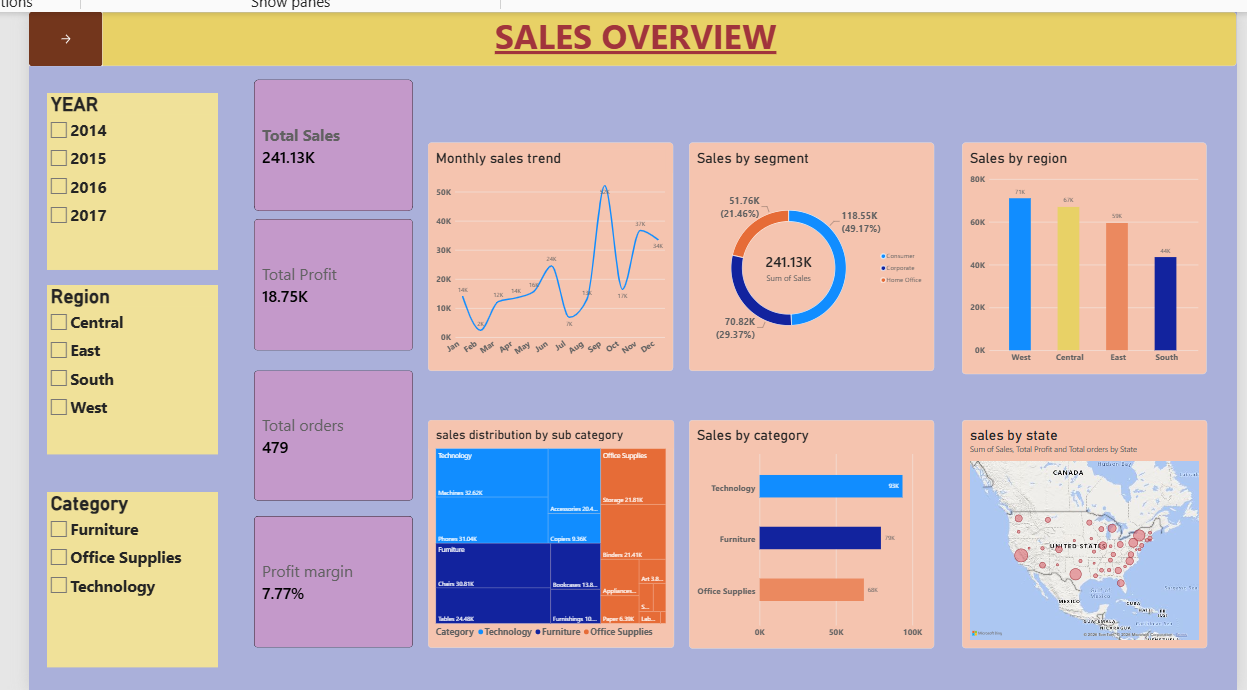

This screenshot's page, from the dashboard's own definition file:
{"tool":"powerbi","page":{"name":"Dashboard","canvas":[2560,1440],"ordinal":1},"visuals":[{"type":"textbox","box":[12.7,0,2548.2,114.5],"z":0},{"type":"cardVisual","fields":{"Data":["Superstore.Total Sales"]},"box":[477.2,143.2,337.2,279.9],"z":1},{"type":"cardVisual","fields":{"Data":["Superstore.Total Profit"]},"box":[477.2,439,337.2,279.9],"z":2},{"type":"cardVisual","fields":{"Data":["Superstore.Total orders"]},"box":[477.2,760.3,337.2,276.8],"z":3},{"type":"cardVisual","fields":{"Data":["Superstore.Profit margin"]},"box":[477.2,1068.9,337.2,279.9],"z":4},{"type":"lineChart","title":"Monthly sales trend","fields":{"Category":["DATE TABLE.MONTH"],"Y":["Sum(Superstore.Sales)"]},"box":[846.2,276.8,520.1,484.3],"z":5},{"type":"clusteredBarChart","title":"Sales by category","fields":{"Category":["Superstore.Category"],"Y":["Sum(Superstore.Sales)"]},"box":[1399.7,865.3,520.1,484.3],"z":6},{"type":"donutChart","title":" Sales by segment","fields":{"Category":["Superstore.Segment"],"Y":["Sum(Superstore.Sales)"]},"box":[1399.7,276.8,520.1,484.3],"z":7},{"type":"clusteredColumnChart","title":" Sales by region","fields":{"Category":["Superstore.Region"],"Y":["Superstore.Total Sales"]},"box":[1978.7,276.8,518.5,491],"z":8},{"type":"map","title":"sales by state","fields":{"Category":["Superstore.State"],"Size":["Sum(Superstore.Sales)"]},"box":[1978.7,865.3,520,484],"z":9},{"type":"treemap","title":"sales distribution by sub category","fields":{"Details":["Superstore.Sub-Category"],"Group":["Superstore.Category"],"Values":["Superstore.Total Sales"]},"box":[846.2,865.3,521.7,483.5],"z":10},{"type":"slicer","fields":{"Values":["DATE TABLE.YEAR"]},"box":[38.2,171.8,362.7,375.4],"z":11},{"type":"slicer","fields":{"Values":["Superstore.Region"]},"box":[38.2,579,362.7,359.5],"z":12},{"type":"slicer","fields":{"Values":["Superstore.Category"]},"box":[38.2,1018,362.7,372.2],"z":13},{"type":"actionButton","box":[0,0,100,40],"z":14},{"type":"actionButton","box":[0,0,155.9,114.5],"z":16}]}

Visuals, with their boxes on the page's 2560x1440 design canvas (x1, y1, x2, y2). These are canvas units, not pixel positions in the 1247x690 screenshot, which may show the page scaled, cropped or inside an application window:
textbox: (x1=13, y1=0, x2=2561, y2=114)
cardVisual - Superstore.Total Sales: (x1=477, y1=143, x2=814, y2=423)
cardVisual - Superstore.Total Profit: (x1=477, y1=439, x2=814, y2=719)
cardVisual - Superstore.Total orders: (x1=477, y1=760, x2=814, y2=1037)
cardVisual - Superstore.Profit margin: (x1=477, y1=1069, x2=814, y2=1349)
"Monthly sales trend" lineChart: (x1=846, y1=277, x2=1366, y2=761)
"Sales by category" clusteredBarChart: (x1=1400, y1=865, x2=1920, y2=1350)
" Sales by segment" donutChart: (x1=1400, y1=277, x2=1920, y2=761)
" Sales by region" clusteredColumnChart: (x1=1979, y1=277, x2=2497, y2=768)
"sales by state" map: (x1=1979, y1=865, x2=2499, y2=1349)
"sales distribution by sub category" treemap: (x1=846, y1=865, x2=1368, y2=1349)
slicer - DATE TABLE.YEAR: (x1=38, y1=172, x2=401, y2=547)
slicer - Superstore.Region: (x1=38, y1=579, x2=401, y2=938)
slicer - Superstore.Category: (x1=38, y1=1018, x2=401, y2=1390)
actionButton: (x1=0, y1=0, x2=100, y2=40)
actionButton: (x1=0, y1=0, x2=156, y2=114)
